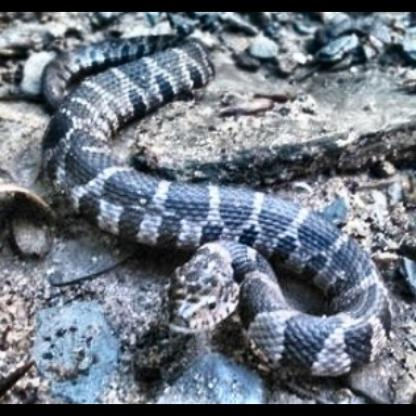Snake: (39, 28, 393, 381)
